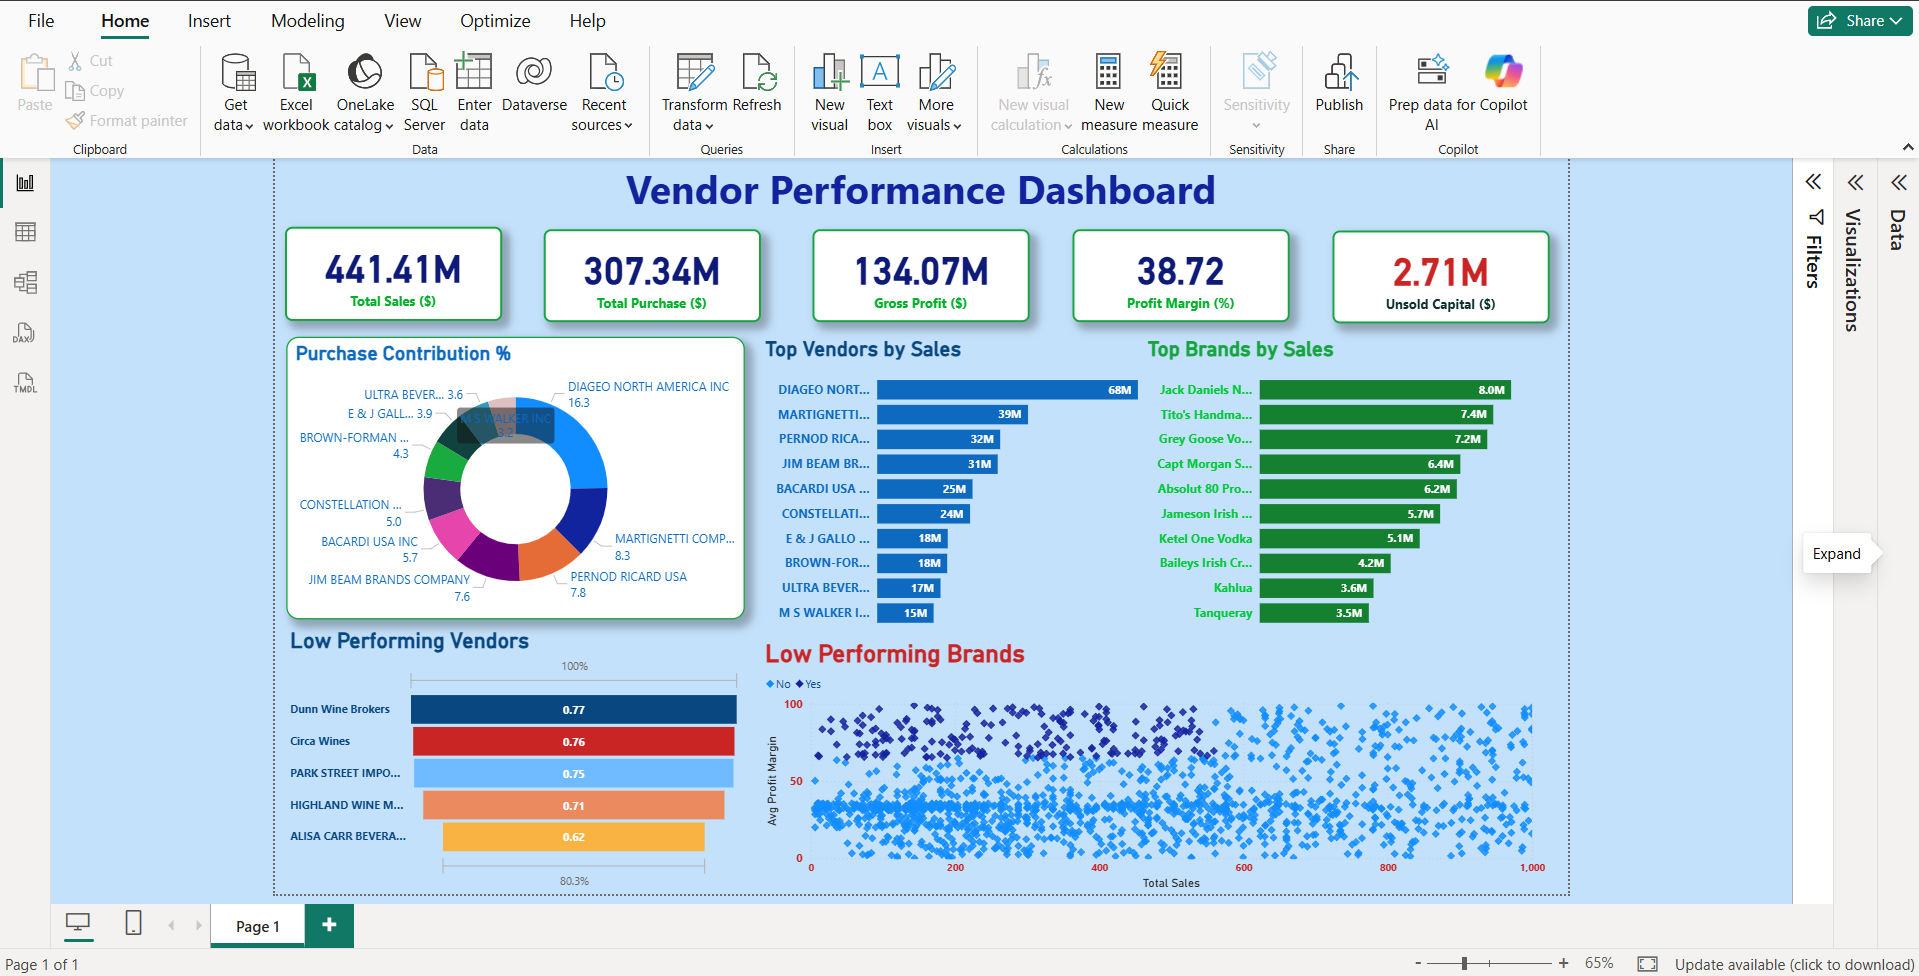

Layout of this report page (visuals, bound fields, positions):
{"tool":"powerbi","page":{"name":"Page 1","canvas":[1580,900],"ordinal":0},"visuals":[{"type":"card","fields":{"Values":["Vendor_Sales_Summary (2).Total_SalesDollars"]},"box":[11.9,84.7,265.9,115.2],"z":0},{"type":"textbox","box":[0,0,1580.5,82.5],"z":1000},{"type":"card","fields":{"Values":["Vendor_Sales_Summary.Total_Purchased_Dollars"]},"box":[328.6,86.4,265.9,113.5],"z":2000},{"type":"card","fields":{"Values":["Vendor_Sales_Summary.Gross_Profit"]},"box":[657.2,86.4,265.9,113.5],"z":3000},{"type":"card","fields":{"Values":["Vendor_Sales_Summary.Profit_Margin"]},"box":[975.6,86.4,265.9,113.5],"z":4000},{"type":"card","fields":{"Values":["Vendor_Sales_Summary.UnsoldCapital"]},"box":[1292.4,88.1,265.9,113.5],"z":5000},{"type":"donutChart","title":"Purchase Contribution %","fields":{"Category":["PurchaseContribution.VendorName"],"Y":["PurchaseContribution.PurchaseContribution%"]},"box":[13.6,218.5,560.7,345.5],"z":6000},{"type":"barChart","title":"Top Vendors by Sales","fields":{"Category":["Vendor_Sales_Summary.VendorName"],"Y":["Vendor_Sales_Summary.Total_SalesDollars"]},"box":[594.5,218.5,514.9,367.6],"z":7000},{"type":"barChart","title":"Top Brands by Sales","fields":{"Category":["Vendor_Sales_Summary.Description"],"Y":["Vendor_Sales_Summary.Total_SalesDollars"]},"box":[1062,218.5,496.3,367.6],"z":8000},{"type":"funnel","title":"Low Performing Vendors","fields":{"Category":["LowTurnOverVendor.VendorName"],"Y":["LowTurnOverVendor.AvgStockTurnover"]},"box":[14,575,561,325],"z":9000},{"type":"scatterChart","title":"Low Performing Brands","fields":{"Category":["BrandPerformance.Description"],"X":["BrandPerformance.TotalSales"],"Y":["BrandPerformance.AvgProfitMargin"],"Series":["BrandPerformance.TargetBrand"]},"box":[594.5,587.8,963.8,311.7],"z":10000}]}

Visuals, with their boxes on the page's 1580x900 design canvas (x1, y1, x2, y2). These are canvas units, not pixel positions in the 1919x976 screenshot, which may show the page scaled, cropped or inside an application window:
card - Vendor_Sales_Summary (2).Total_SalesDollars: [x1=12, y1=85, x2=278, y2=200]
textbox: [x1=0, y1=0, x2=1580, y2=82]
card - Vendor_Sales_Summary.Total_Purchased_Dollars: [x1=329, y1=86, x2=594, y2=200]
card - Vendor_Sales_Summary.Gross_Profit: [x1=657, y1=86, x2=923, y2=200]
card - Vendor_Sales_Summary.Profit_Margin: [x1=976, y1=86, x2=1242, y2=200]
card - Vendor_Sales_Summary.UnsoldCapital: [x1=1292, y1=88, x2=1558, y2=202]
"Purchase Contribution %" donutChart: [x1=14, y1=218, x2=574, y2=564]
"Top Vendors by Sales" barChart: [x1=594, y1=218, x2=1109, y2=586]
"Top Brands by Sales" barChart: [x1=1062, y1=218, x2=1558, y2=586]
"Low Performing Vendors" funnel: [x1=14, y1=575, x2=575, y2=900]
"Low Performing Brands" scatterChart: [x1=594, y1=588, x2=1558, y2=900]
